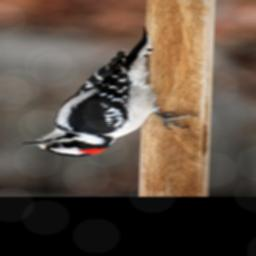Woodpecker: (21, 28, 198, 157)
